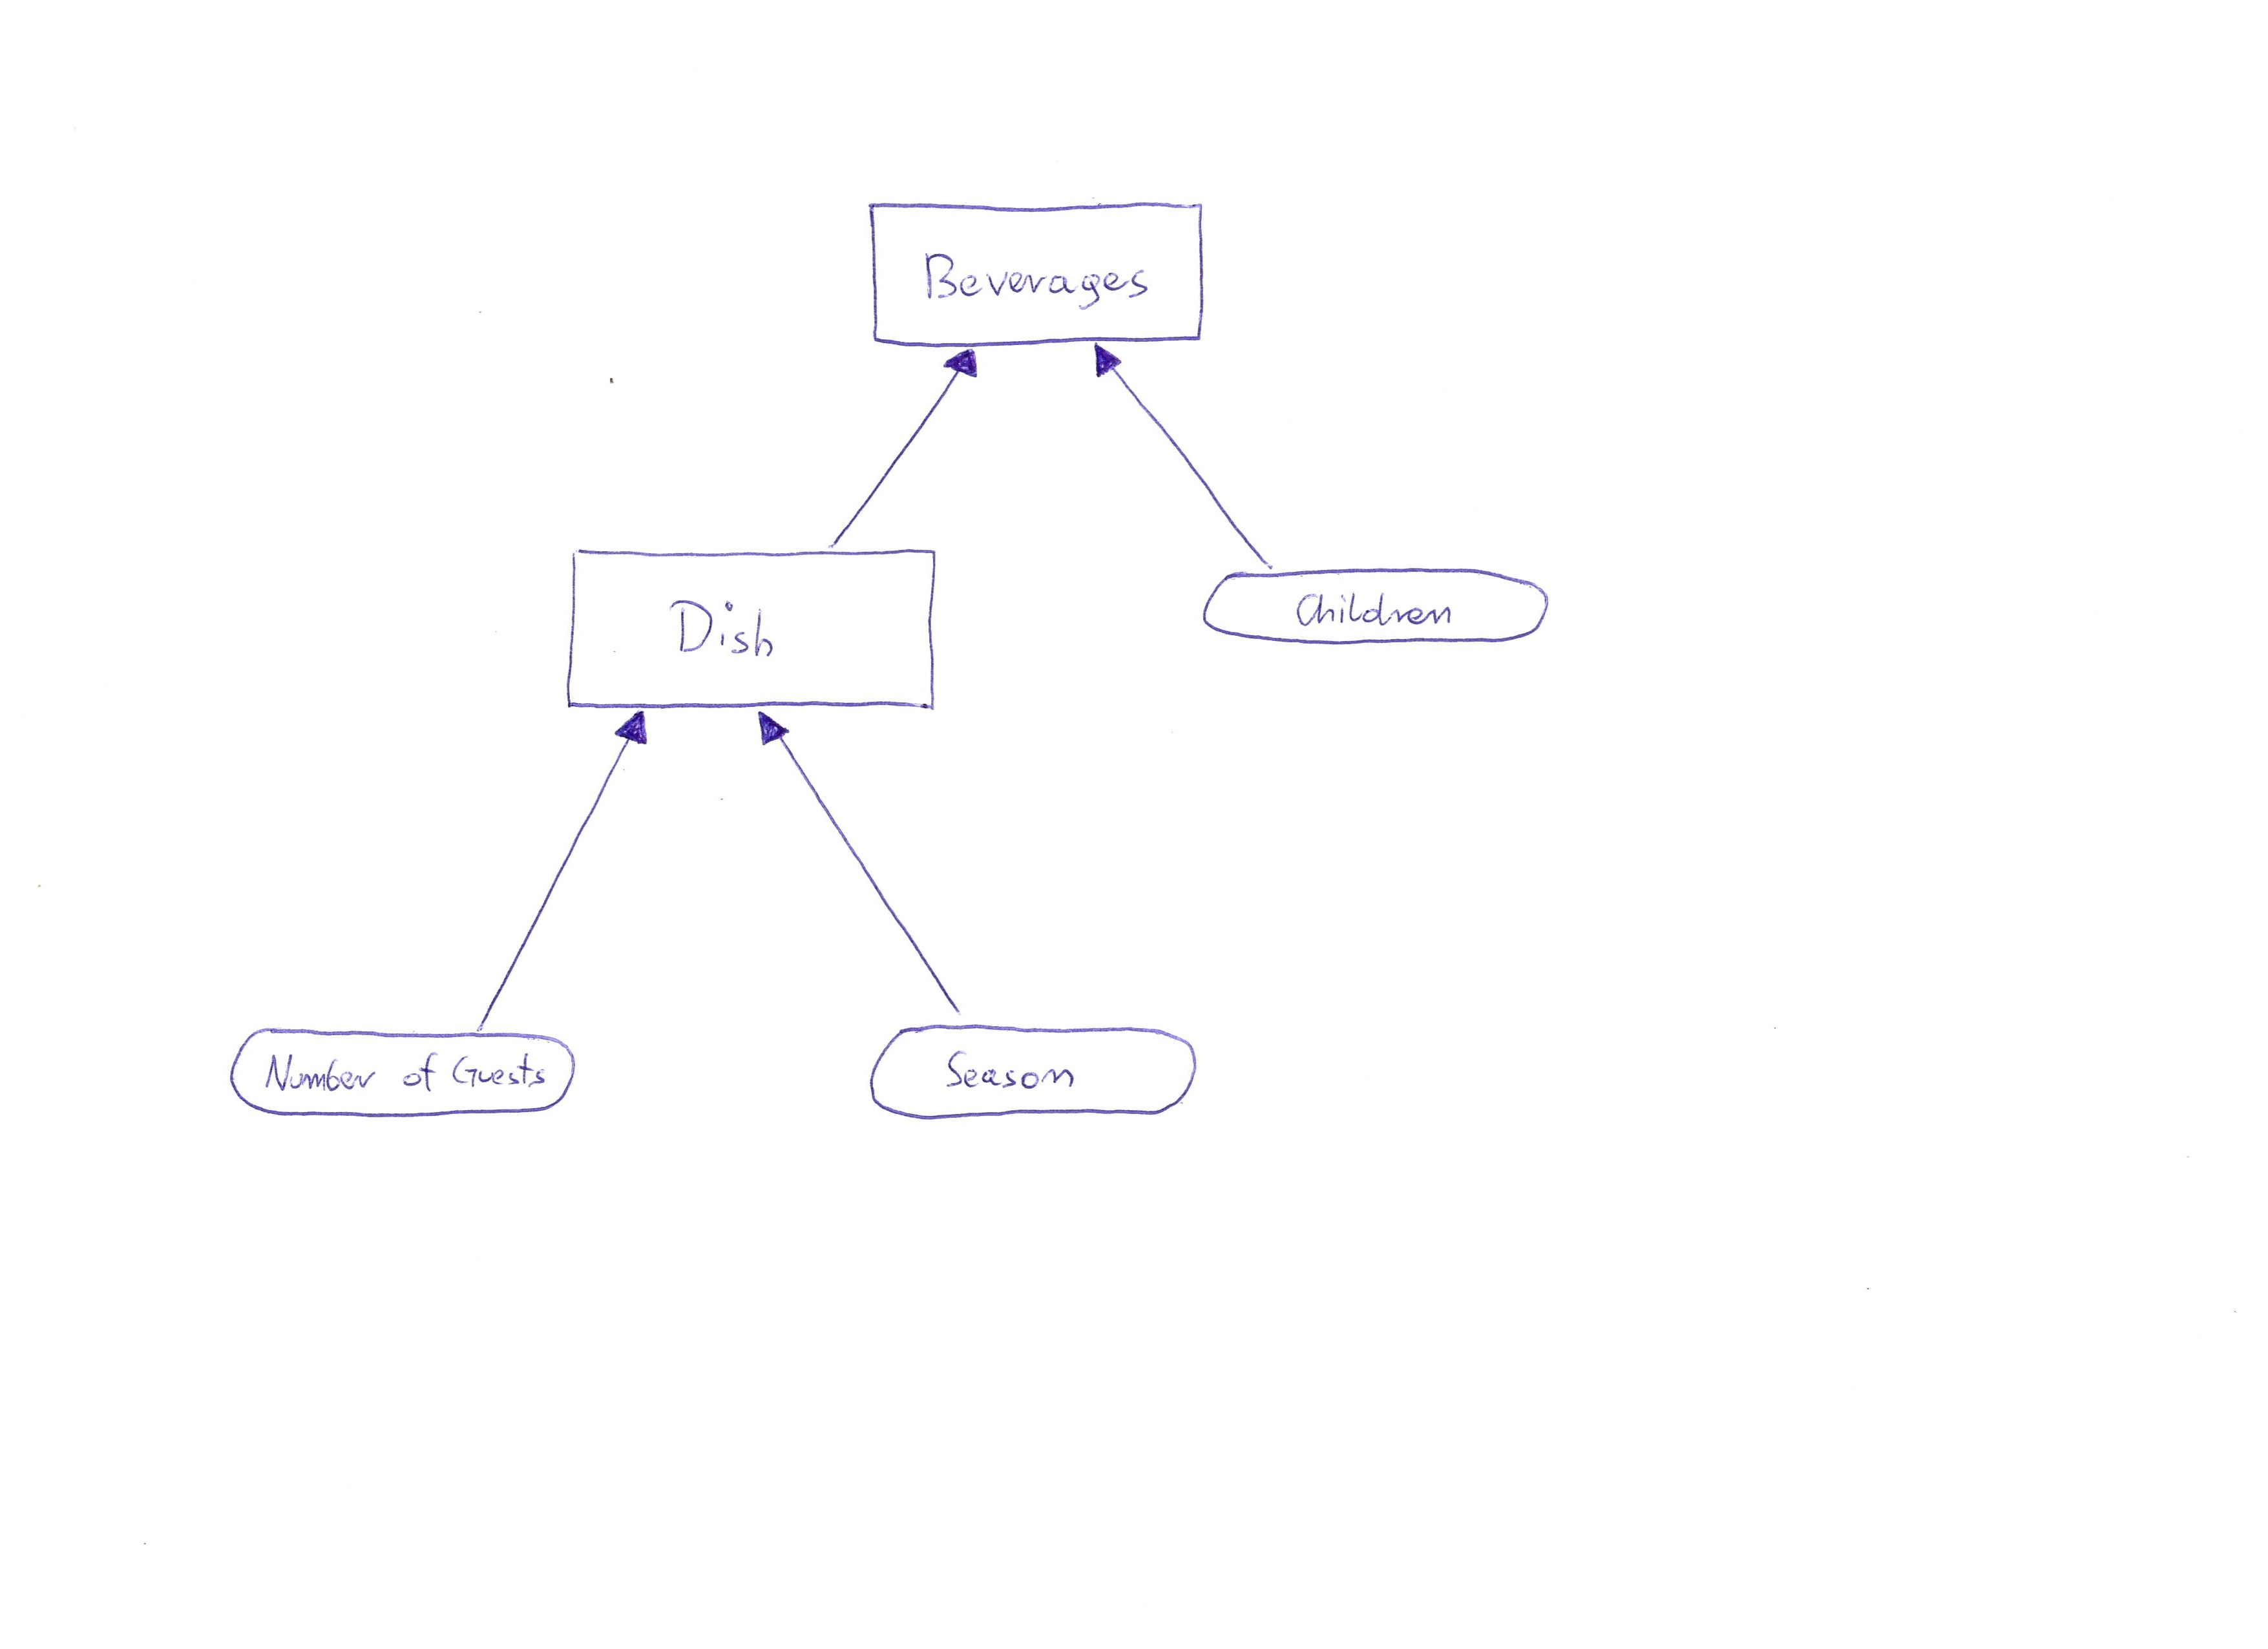arrow_information_requirement: (734, 708, 991, 1020), (442, 706, 664, 1032), (1071, 340, 1280, 569), (810, 344, 998, 550)
node_decision: (565, 546, 942, 715), (859, 197, 1210, 349)
node_input_data: (220, 1024, 602, 1129), (863, 1017, 1215, 1128), (1196, 566, 1564, 659)
text: (907, 245, 1171, 317), (259, 1038, 556, 1099), (659, 587, 791, 684), (930, 1045, 1095, 1103), (1275, 585, 1465, 632)
